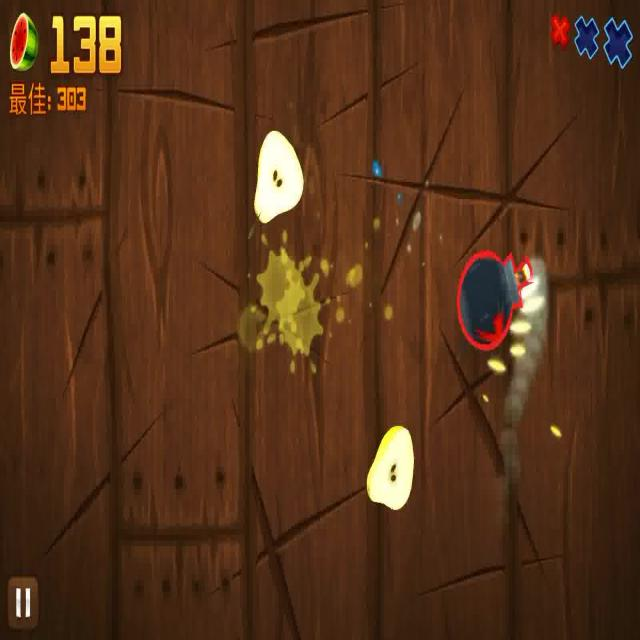bomb: (457, 248, 535, 358)
fruit: (253, 124, 304, 224), (363, 424, 413, 510)
